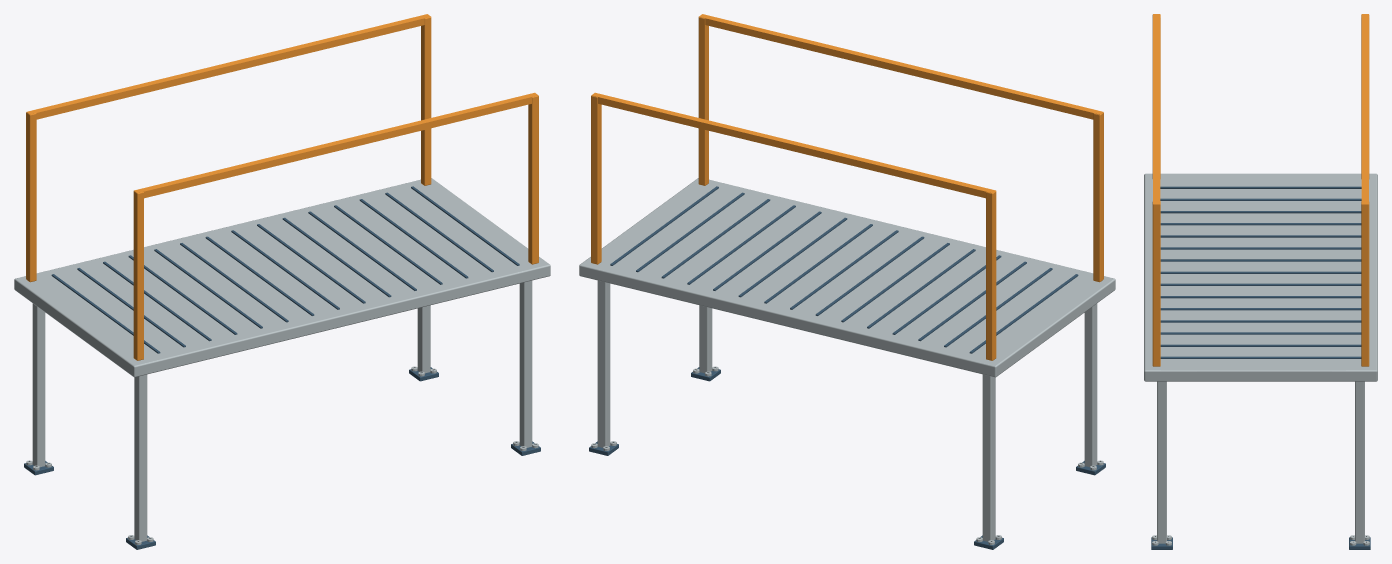
Rendered from container-inspection-and-customs-yard-container-inspec-11e65d24__29280.glb.
The picture shows the model from 3 angles, left to right: view 1: azimuth 30°, elevation 25°; view 2: azimuth 150°, elevation 25°; view 3: azimuth 270°, elevation 25°; orthographic projection. The views are drawn at different scales.
Parts seen in each view (by area): view 1: container-inspection-and-customs-yard-container-inspection-p (×3); view 2: container-inspection-and-customs-yard-container-inspection-p (×3); view 3: container-inspection-and-customs-yard-container-inspection-p (×3).
Part boxes in pixels (left/top/right/bottom): container-inspection-and-customs-yard-container-inspection-p (×3): left=14, top=14, right=550, bottom=549; container-inspection-and-customs-yard-container-inspection-p (×3): left=579, top=14, right=1115, bottom=549; container-inspection-and-customs-yard-container-inspection-p (×3): left=1144, top=14, right=1377, bottom=549.
Size of the model in its own units: 2.6 by 2.12 by 1.3.
